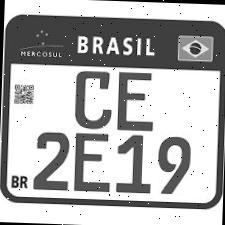placa_mercosul: (0, 14, 225, 210)
